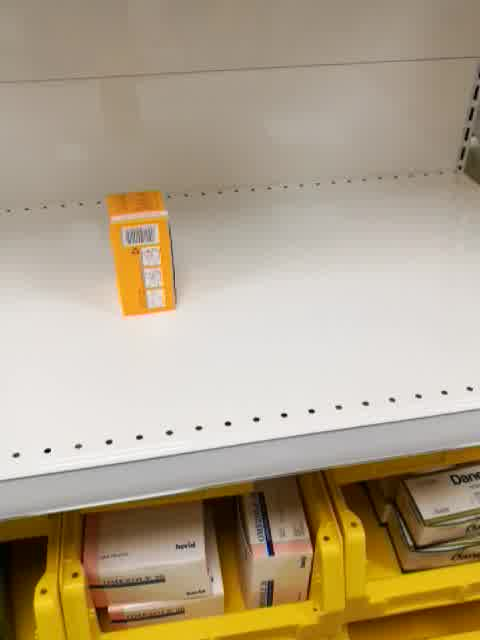jasminetea: (105, 190, 178, 317)
